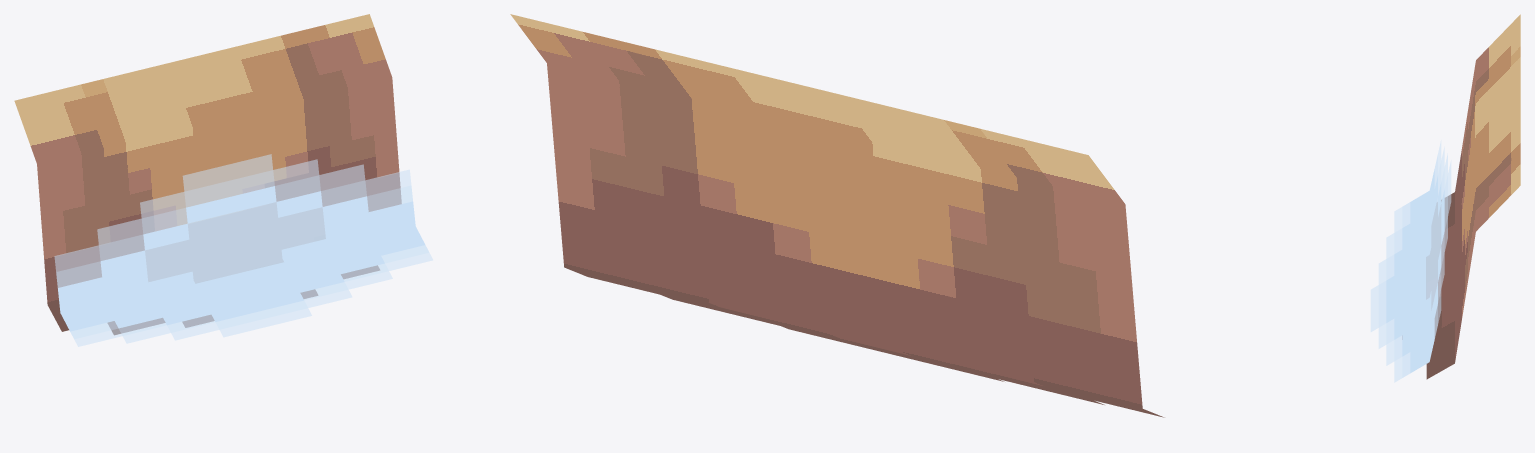
The picture shows the model from 3 angles, left to right: view 1: azimuth 30°, elevation 25°; view 2: azimuth 150°, elevation 25°; view 3: azimuth 270°, elevation 25°; orthographic projection. The views are drawn at different scales.
Bounding box in the file's own units: 1 × 0.6892 × 0.5459.
2 materials, 2 textured.
